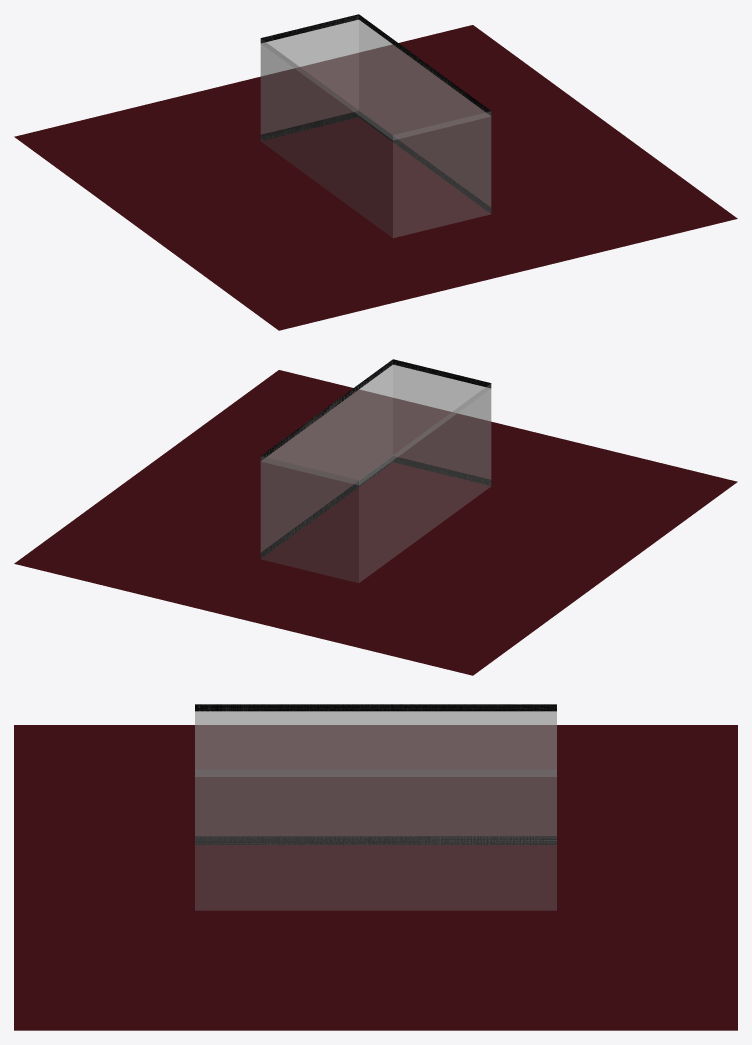
The model's file is Tank.obj.
3 renders of one model, top to bottom at view 1: azimuth 30°, elevation 25°; view 2: azimuth 150°, elevation 25°; view 3: azimuth 270°, elevation 25°, orthographic. The views are drawn at different scales.
Visible parts, largest first — view 1: Plane, Cube_Cube.001; view 2: Plane, Cube_Cube.001; view 3: Plane, Cube_Cube.001.
Part boxes in pixels (x1=…): Plane: x1=14, y1=25, x2=737, y2=330; Cube_Cube.001: x1=260, y1=14, x2=491, y2=237; Plane: x1=14, y1=370, x2=737, y2=675; Cube_Cube.001: x1=260, y1=359, x2=491, y2=582; Plane: x1=14, y1=725, x2=737, y2=1030; Cube_Cube.001: x1=195, y1=704, x2=556, y2=910.
Size of the model in its own units: 20 by 4.3 by 20.
